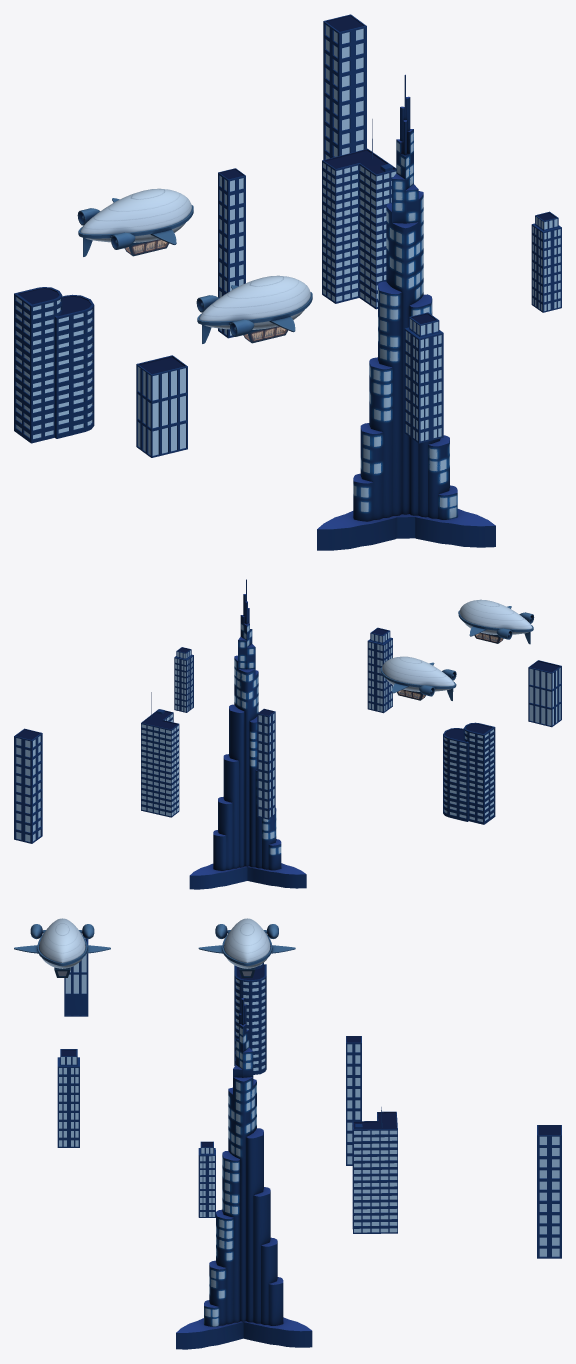
Rendered from dubai_stage_background.fbx.
3 renders of one model, top to bottom at view 1: azimuth 30°, elevation 25°; view 2: azimuth 150°, elevation 25°; view 3: azimuth 270°, elevation 25°, orthographic. The views are drawn at different scales.
Visible parts, largest first — view 1: node_id3.001, Cube.119, Cube.087, Cube.114, Cube.076, Cube.078, Cube.112, Cube.086, Cube.120, Cube.113; view 2: node_id3.001, Cube.119, Cube.087, Cube.114, Cube.076, Cube.078, Cube.112, Cube.120, Cube.086, Cube.113; view 3: node_id3.001, Cube.087, Cube.114, Cube.078, Cube.076, Cube.119, Cube.086, Cube.120, Cube.113, Cube.112.
Part boxes in pixels (bbox=[...]): node_id3.001: bbox=[317, 74, 495, 550]; Cube.119: bbox=[14, 287, 94, 443]; Cube.087: bbox=[322, 119, 396, 309]; Cube.114: bbox=[323, 14, 366, 159]; Cube.076: bbox=[77, 188, 193, 256]; Cube.078: bbox=[196, 275, 312, 343]; Cube.112: bbox=[136, 355, 187, 457]; Cube.086: bbox=[404, 312, 443, 443]; Cube.120: bbox=[218, 168, 245, 338]; Cube.113: bbox=[531, 211, 561, 312]; node_id3.001: bbox=[189, 579, 306, 889]; Cube.119: bbox=[443, 722, 495, 824]; Cube.087: bbox=[141, 692, 179, 817]; Cube.114: bbox=[14, 728, 42, 843]; Cube.076: bbox=[381, 656, 456, 700]; Cube.078: bbox=[458, 599, 534, 644]; Cube.112: bbox=[528, 660, 561, 727]; Cube.120: bbox=[257, 708, 275, 819]; Cube.086: bbox=[367, 627, 392, 713]; Cube.113: bbox=[174, 647, 193, 712]; node_id3.001: bbox=[176, 979, 312, 1349]; Cube.087: bbox=[352, 1107, 397, 1233]; Cube.114: bbox=[537, 1125, 561, 1258]; Cube.078: bbox=[14, 918, 110, 977]; Cube.076: bbox=[198, 918, 295, 977]; Cube.119: bbox=[234, 963, 266, 1074]; Cube.086: bbox=[57, 1049, 79, 1147]; Cube.120: bbox=[346, 1036, 361, 1165]; Cube.113: bbox=[198, 1141, 215, 1217]; Cube.112: bbox=[64, 938, 88, 1016].
Size of the model in its own units: 84454 by 69031 by 97554.
